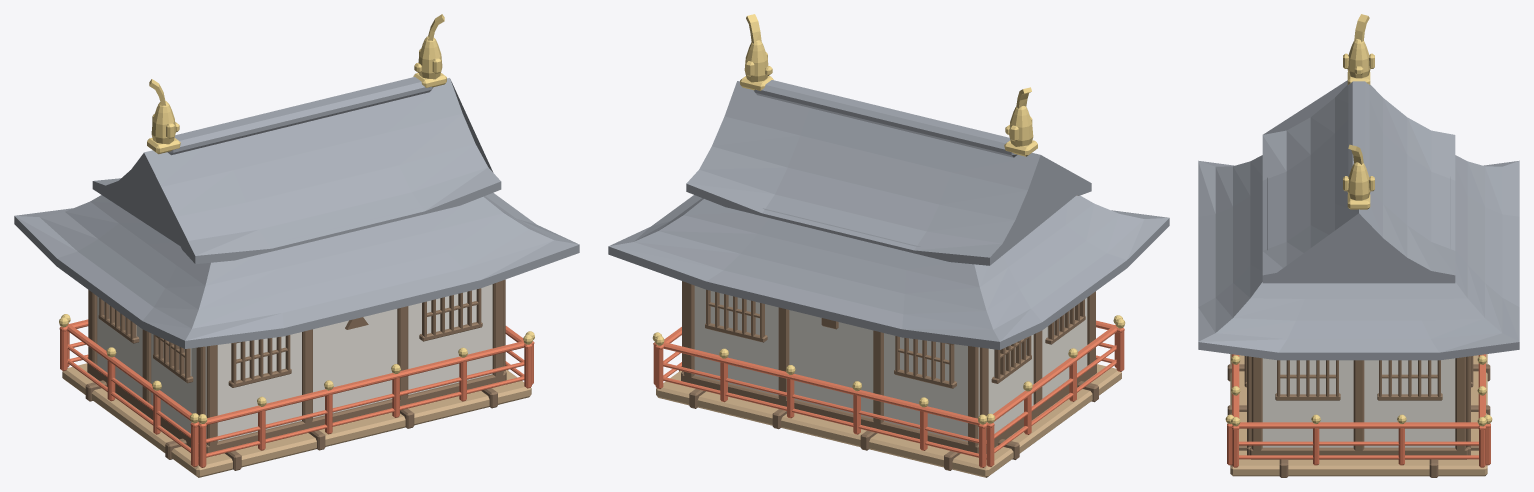
The model's file is feudal-japan-castle-town-keep-top-tier-4368d6dd__26542.glb.
3 renders of one model, left to right at view 1: azimuth 30°, elevation 25°; view 2: azimuth 150°, elevation 25°; view 3: azimuth 270°, elevation 25°, orthographic. The views are drawn at different scales.
Parts seen in each view (by area): view 1: keep-top-tier; view 2: keep-top-tier; view 3: keep-top-tier.
Boxes of the visible parts, left/top/right/bottom form: keep-top-tier: left=14, top=14, right=579, bottom=477; keep-top-tier: left=608, top=14, right=1169, bottom=477; keep-top-tier: left=1198, top=14, right=1519, bottom=477.
Bounding box in the file's own units: 8 × 6.59 × 6.
